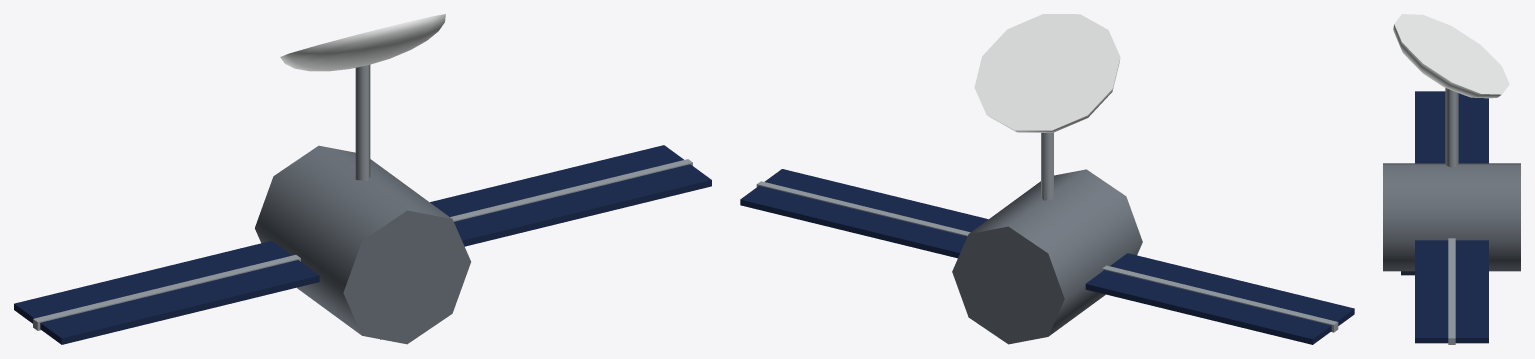
File: space_ship_probe_mk3.glb
The picture shows the model from 3 angles, left to right: view 1: azimuth 30°, elevation 25°; view 2: azimuth 150°, elevation 25°; view 3: azimuth 270°, elevation 25°; orthographic projection. The views are drawn at different scales.
Parts seen in each view (by area): view 1: body, solar_0, solar_1, antenna_0; view 2: body, antenna_0, solar_0, solar_1; view 3: body, solar_1, antenna_0, solar_0.
Boxes of the visible parts, x1,y1,x2,y2 form: body: (255, 145, 470, 344); solar_0: (14, 241, 319, 344); solar_1: (430, 145, 711, 246); antenna_0: (280, 14, 445, 180); body: (952, 169, 1142, 344); antenna_0: (974, 14, 1120, 200); solar_0: (1085, 253, 1354, 344); solar_1: (740, 169, 988, 258); body: (1383, 163, 1520, 275); solar_1: (1415, 238, 1488, 344); antenna_0: (1393, 14, 1509, 167); solar_0: (1415, 91, 1488, 163).
Size of what is drawn, in the model's own units: 6.35 by 2.92 by 1.49.
